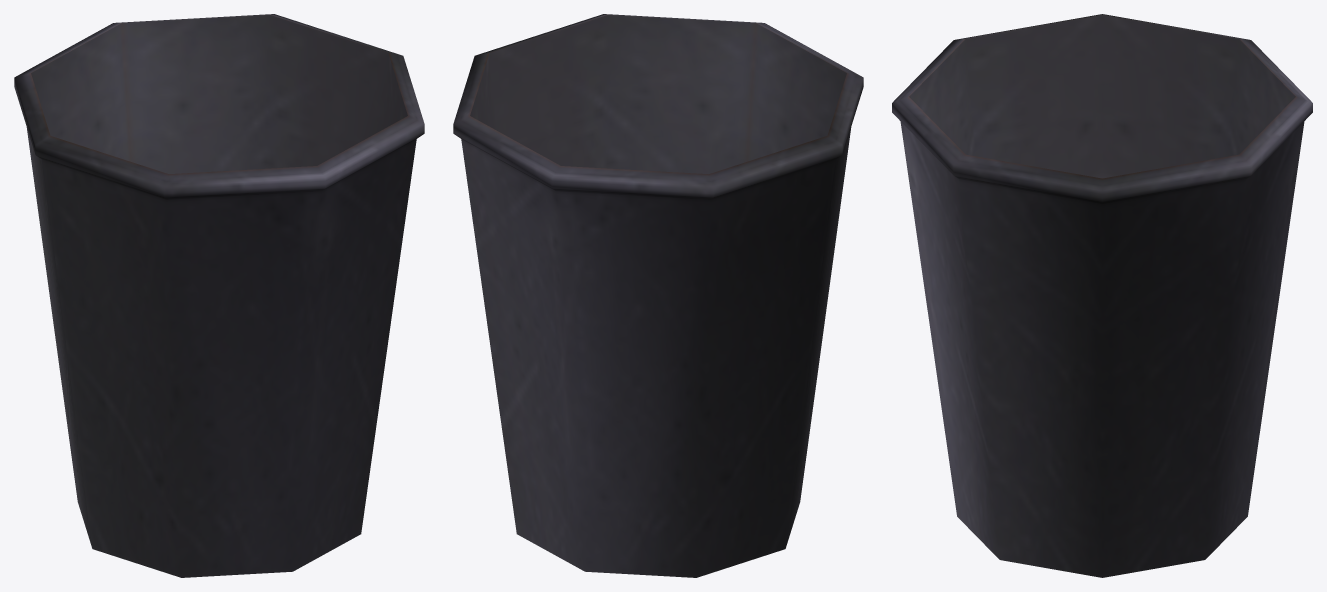
File: TuShuGuan_01_lajitong_01.FBX
3 renders of one model, left to right at view 1: azimuth 30°, elevation 25°; view 2: azimuth 150°, elevation 25°; view 3: azimuth 270°, elevation 25°, orthographic.
Visible parts, largest first — view 1: TuShuGuan_01_lajitong_01; view 2: TuShuGuan_01_lajitong_01; view 3: TuShuGuan_01_lajitong_01.
Part boxes in pixels (<box>): TuShuGuan_01_lajitong_01: <box>14,14,424,577</box>; TuShuGuan_01_lajitong_01: <box>453,14,863,577</box>; TuShuGuan_01_lajitong_01: <box>892,14,1312,577</box>.
Bounding box in the file's own units: 156 × 172 × 156.
